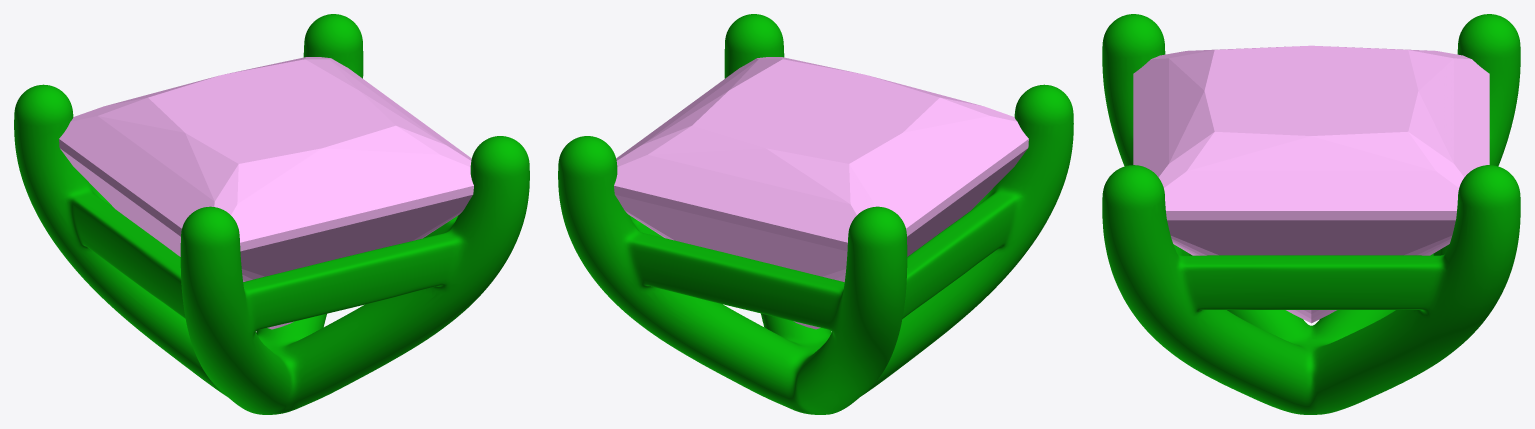
3 views of the same model, side by side, from view 1: azimuth 30°, elevation 25°; view 2: azimuth 150°, elevation 25°; view 3: azimuth 270°, elevation 25° (orthographic). The views are drawn at different scales.
Visible parts, largest first — view 1: Metal01, Diamond_Princess; view 2: Metal01, Diamond_Princess; view 3: Diamond_Princess, Metal01.
Boxes of the visible parts, <box> form: Metal01: <box>14,14,529,414</box>; Diamond_Princess: <box>59,57,473,329</box>; Metal01: <box>558,14,1073,414</box>; Diamond_Princess: <box>614,57,1028,329</box>; Diamond_Princess: <box>1133,45,1489,323</box>; Metal01: <box>1102,14,1520,414</box>.
Size of the model in its own units: 9.38 by 7.69 by 9.33.
